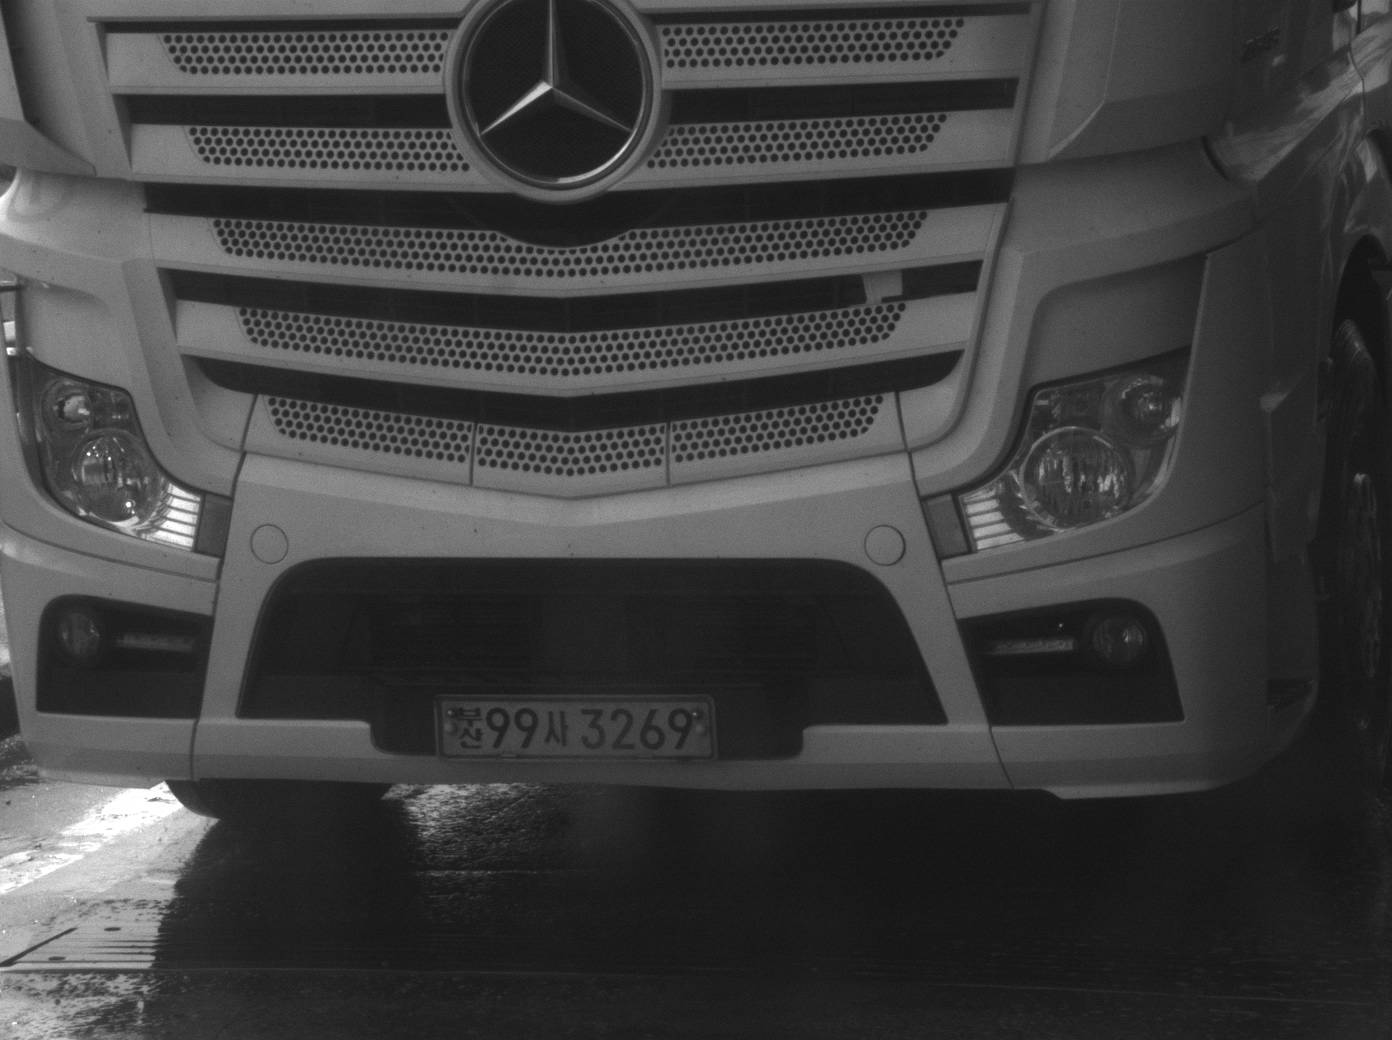car: (1, 1, 1387, 823)
plate: (429, 689, 719, 762)
